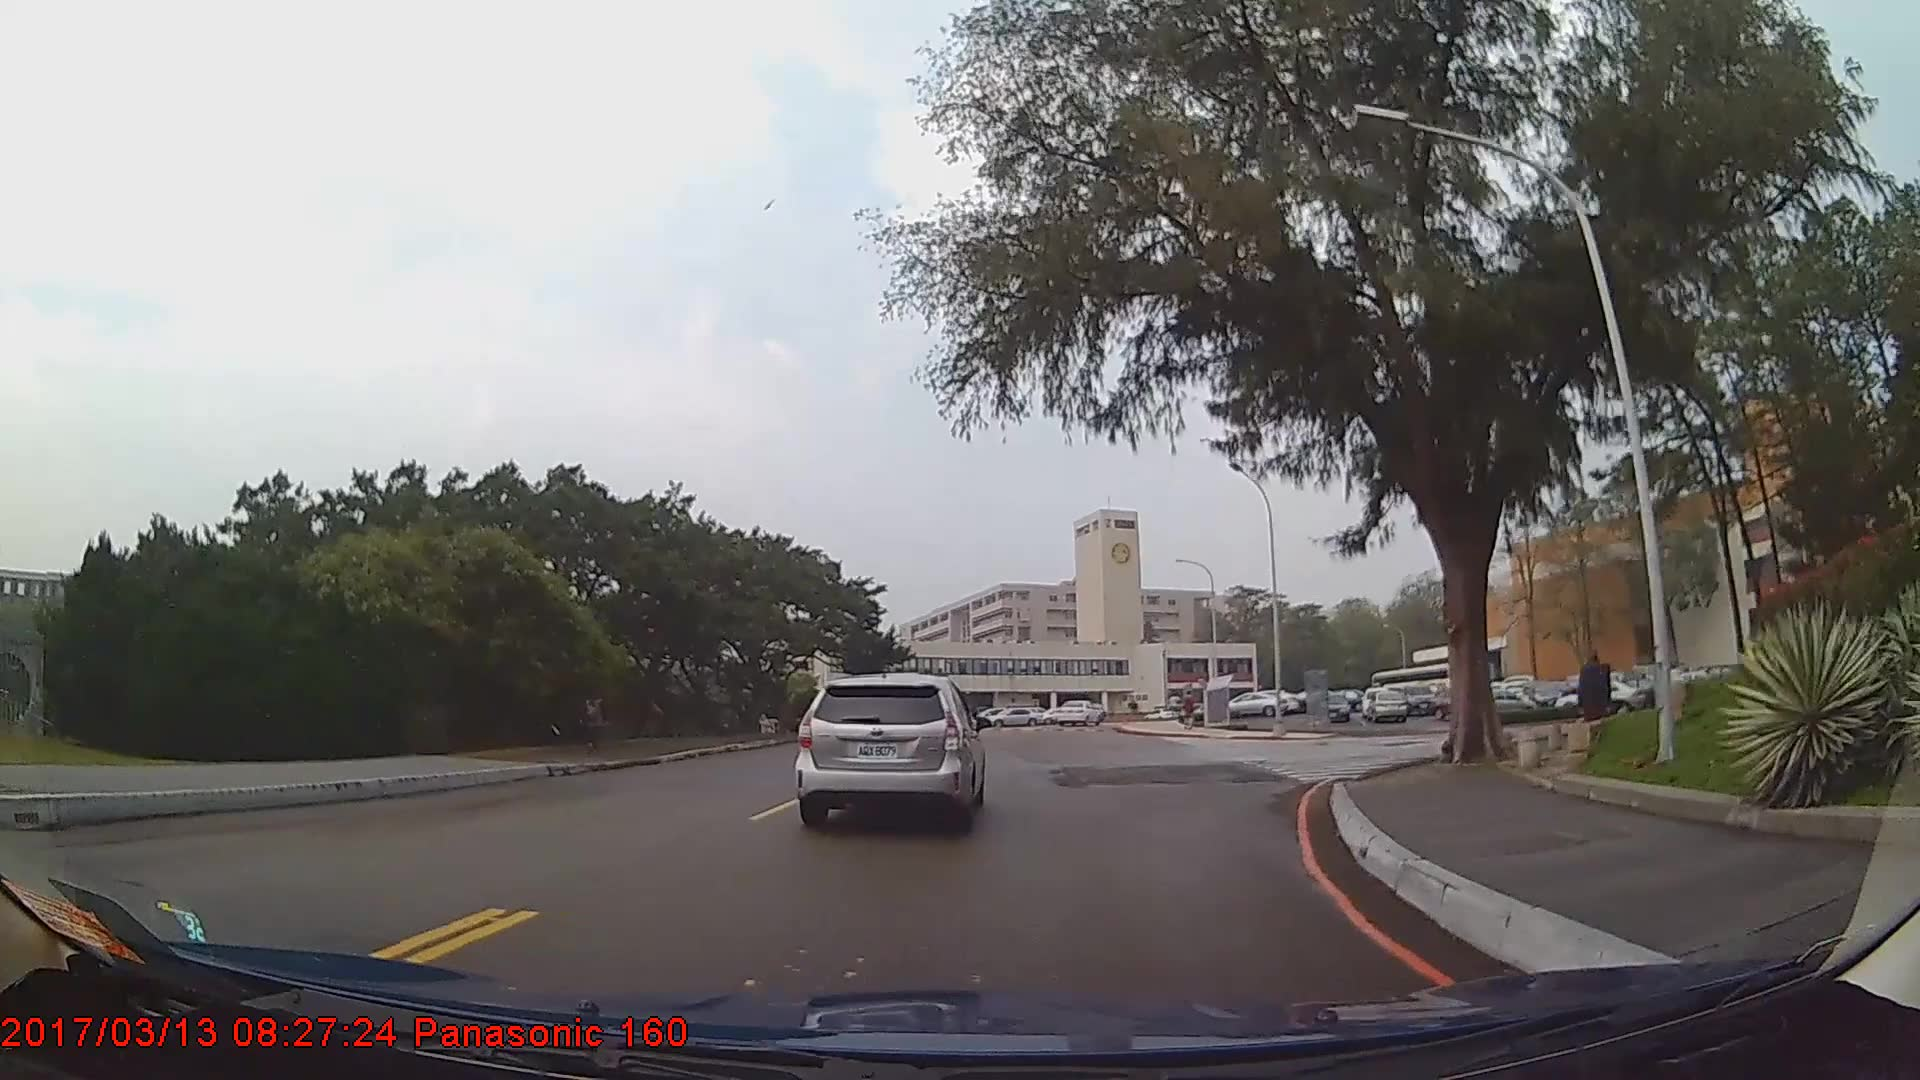pedestrian: (1576, 643, 1613, 759)
vehicle: (797, 668, 986, 830), (1461, 686, 1540, 720), (1219, 691, 1288, 716), (1367, 688, 1410, 725), (1056, 700, 1103, 728), (982, 710, 1041, 731), (1400, 681, 1438, 713), (1318, 695, 1353, 726)
